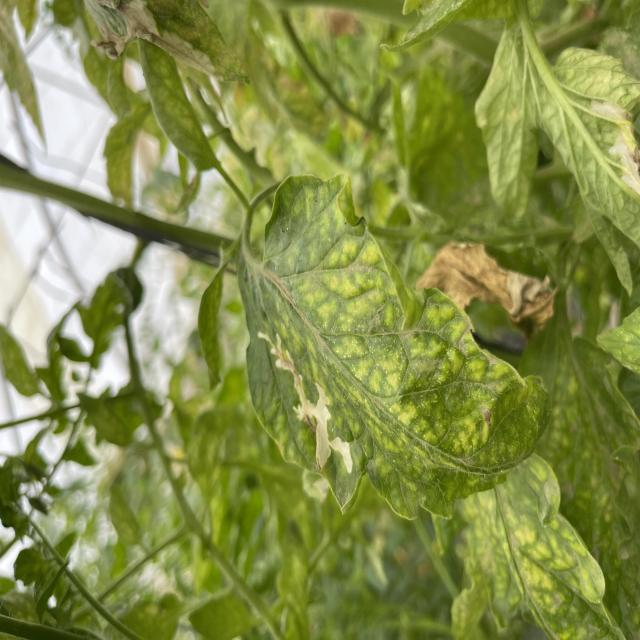Tuta absoluta: (258, 317, 362, 484)
